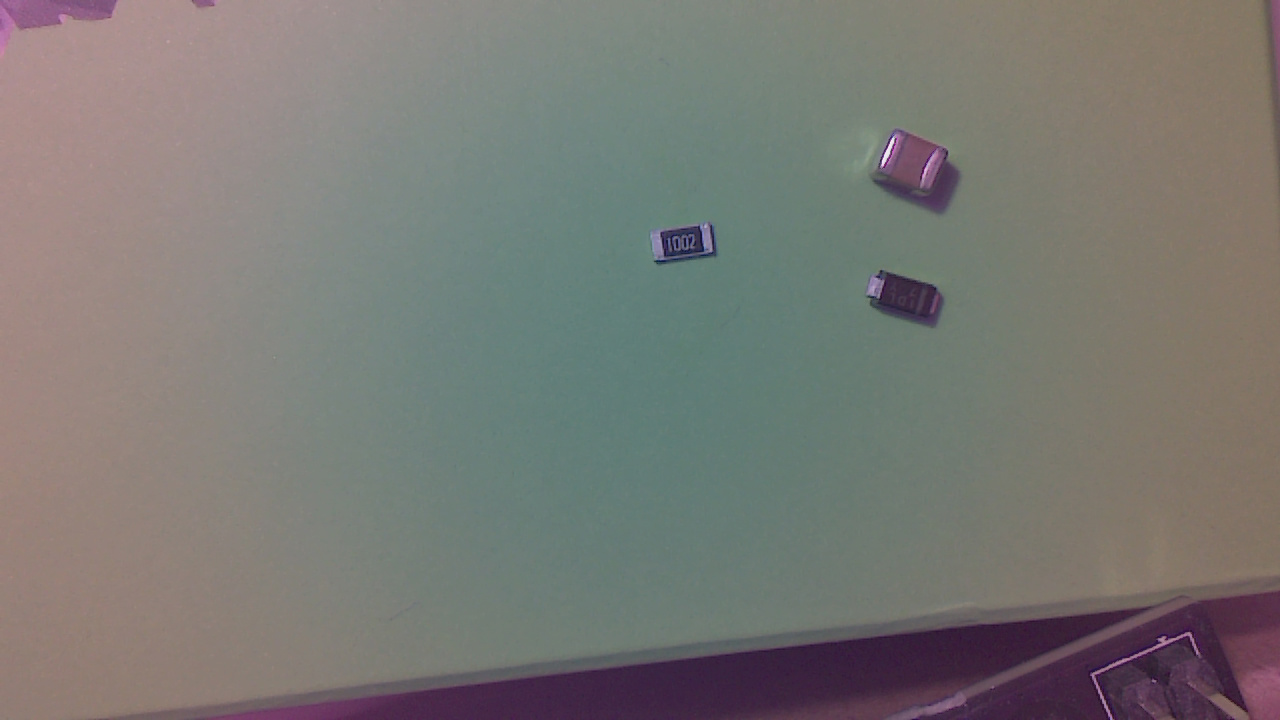Condensator: (879, 136, 954, 203)
Diode: (871, 273, 950, 331)
Resistor: (656, 224, 724, 269)
